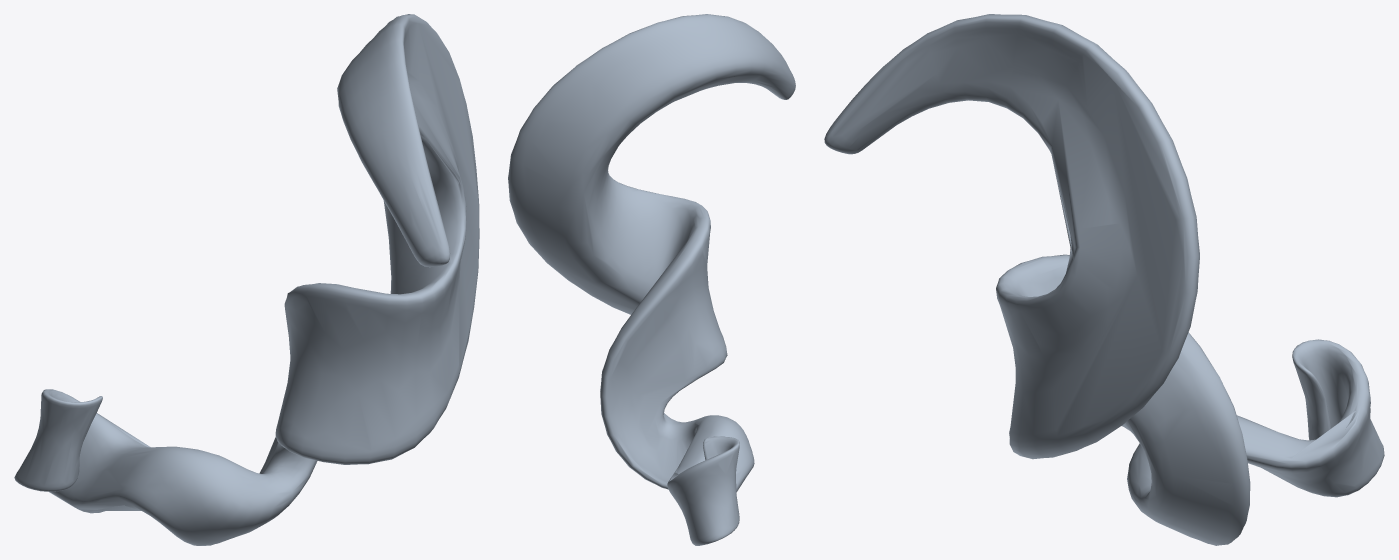
The model's file is Tail_19.fbx.
3 views of the same model, side by side, from view 1: azimuth 30°, elevation 25°; view 2: azimuth 150°, elevation 25°; view 3: azimuth 270°, elevation 25° (orthographic). The views are drawn at different scales.
Parts seen in each view (by area): view 1: Tail_19; view 2: Tail_19; view 3: Tail_19.
Part boxes in pixels (x1,y1,x2,y2): Tail_19: [14, 14, 479, 545]; Tail_19: [508, 14, 795, 545]; Tail_19: [824, 14, 1384, 545].
Size of the model in its own units: 199 by 275 by 245.
